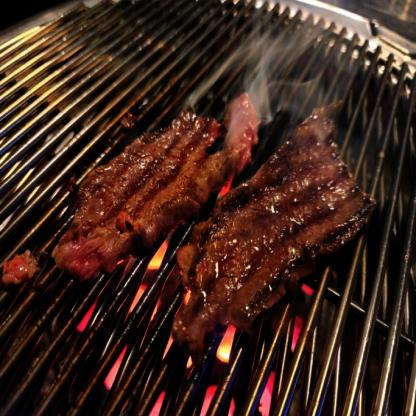Carne: (172, 89, 378, 372), (53, 92, 256, 280)
